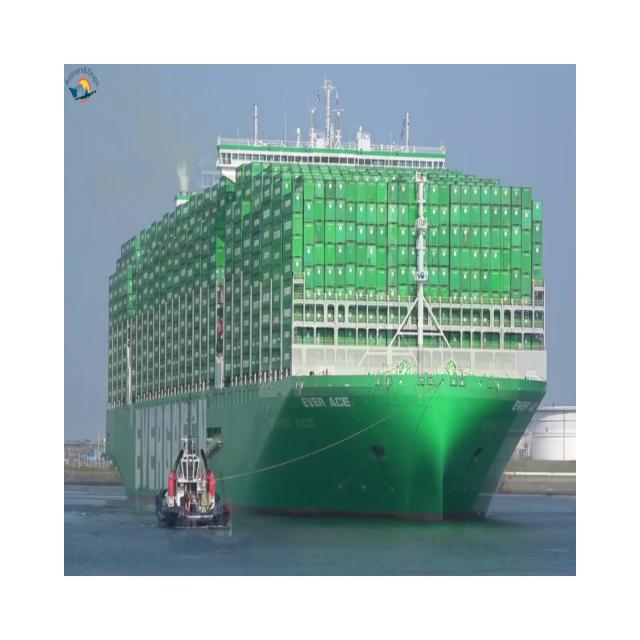OCR: (130, 392, 218, 504), (294, 387, 355, 421), (505, 382, 544, 426)
